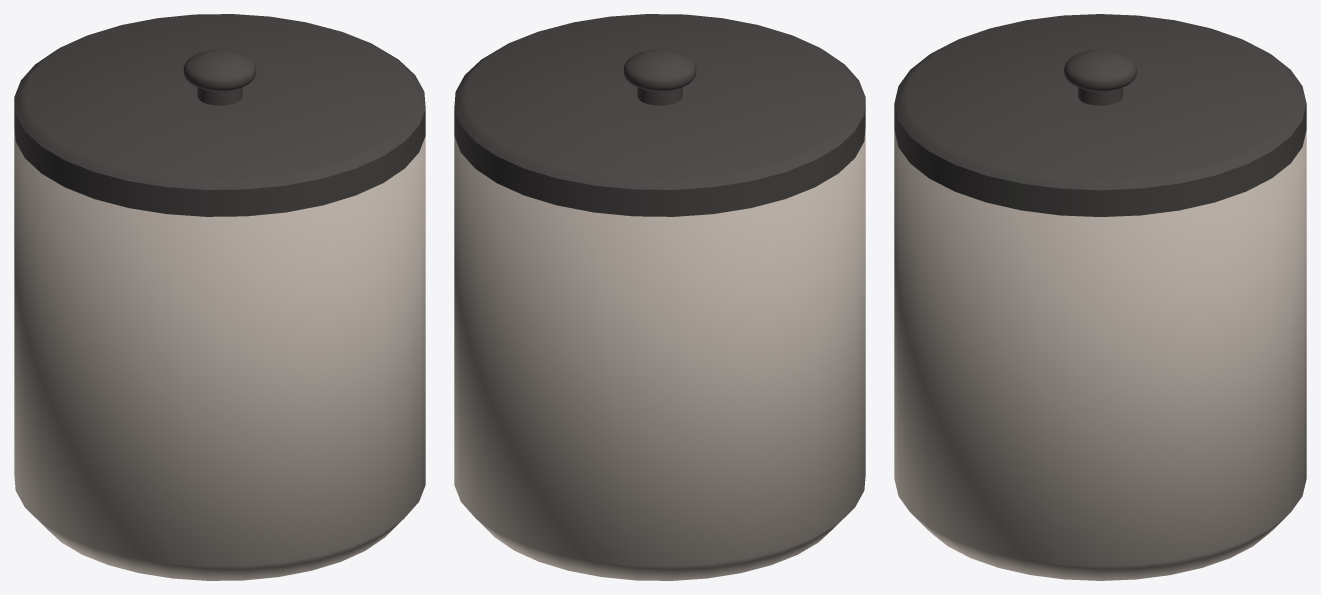
File: Assets.fbx_Dose_Hell.fbx
The picture shows the model from 3 angles, left to right: view 1: azimuth 30°, elevation 25°; view 2: azimuth 150°, elevation 25°; view 3: azimuth 270°, elevation 25°; orthographic projection.
Visible parts, largest first — view 1: Glas.002, Deckel.002; view 2: Glas.002, Deckel.002; view 3: Glas.002, Deckel.002.
Boxes of the visible parts, x1,y1,x2,y2 form: Glas.002: (14, 127, 425, 580); Deckel.002: (14, 14, 425, 216); Glas.002: (454, 127, 865, 580); Deckel.002: (454, 14, 865, 216); Glas.002: (894, 130, 1306, 580); Deckel.002: (894, 14, 1306, 216).
Size of the model in its own units: 18.22 by 21.81 by 18.22.
